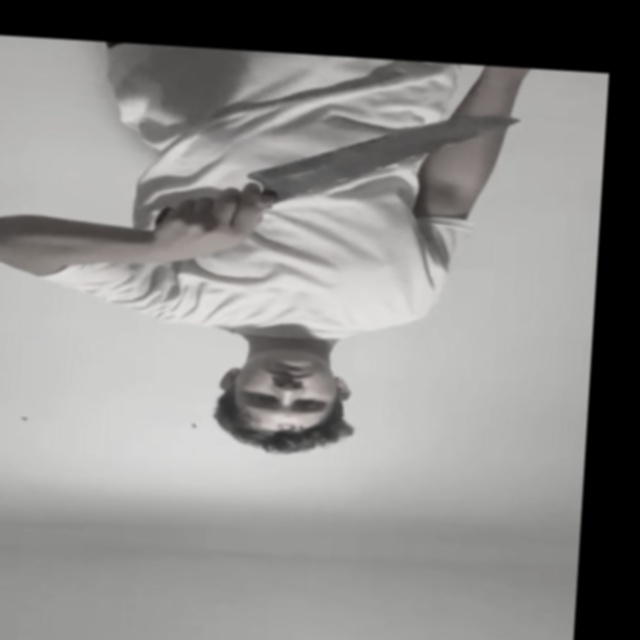Sharp-Object: (250, 104, 524, 219)
